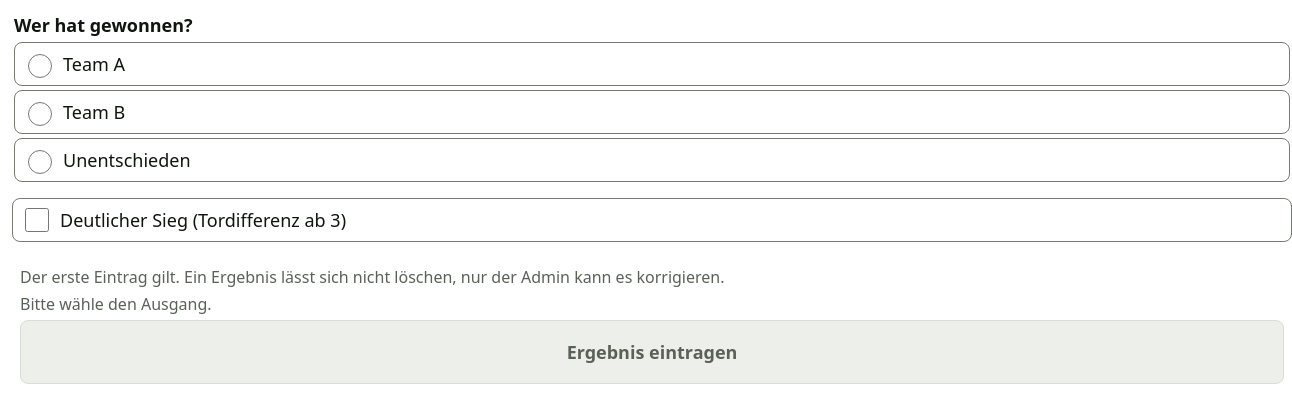
Test case: ErgebnisFormular: Eingabe › sperrt bei Unentschieden den Haken, setzt ihn zurueck und nennt den Grund als Text
The width and height of the screenshot is (1292, 401).
Click the radio button with test id "ergebnis-sieger-a": coordinates (40, 66) [28, 54, 52, 78]
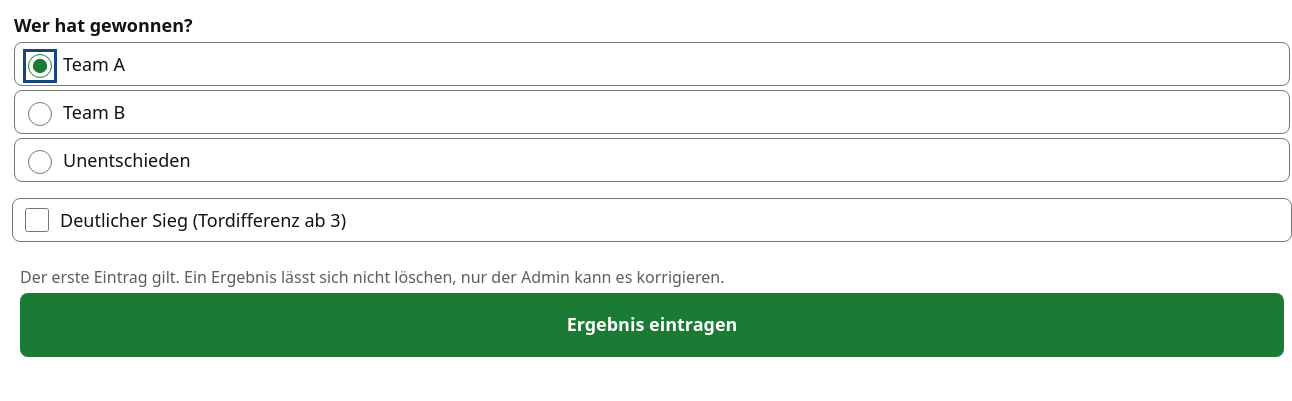
Click the checkbox with test id "ergebnis-deutlich": coordinates (37, 220) [25, 208, 49, 232]
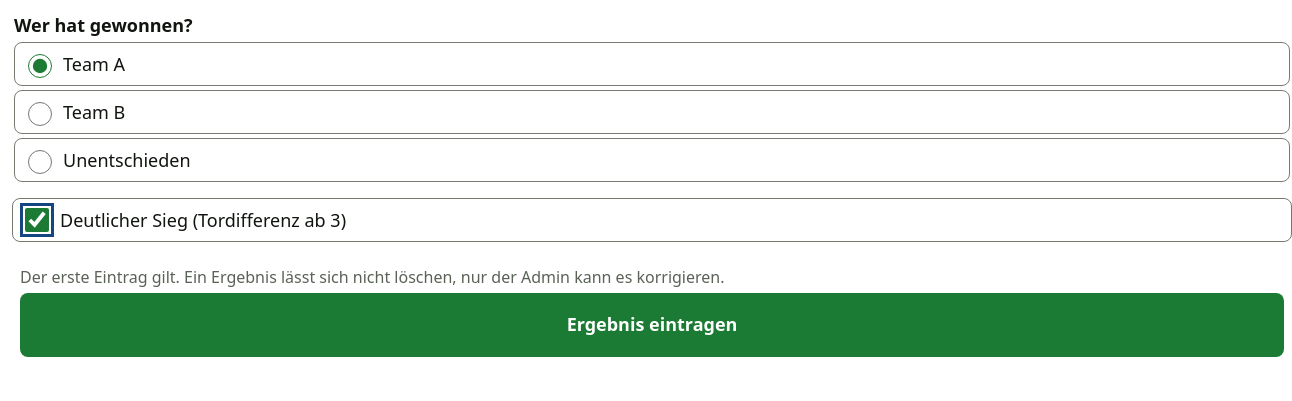
Now the checkbox with test id "ergebnis-deutlich" is checked, box [25, 208, 49, 232]
Click the radio button with test id "ergebnis-sieger-u": coordinates (40, 162) [28, 150, 52, 174]
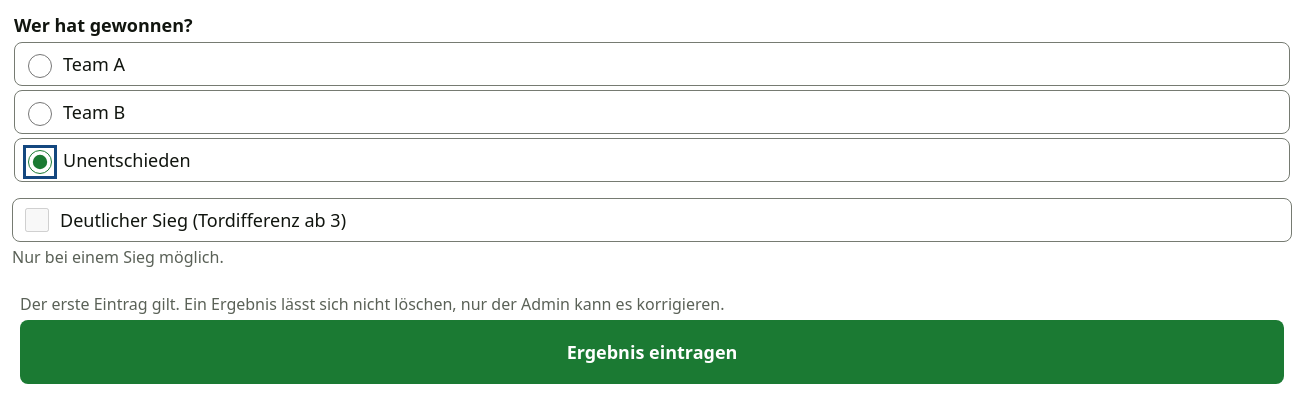
Now the checkbox with test id "ergebnis-deutlich" is not checked, box [25, 208, 49, 232]
Now the checkbox with test id "ergebnis-deutlich" is disabled, box [25, 208, 49, 232]
Now the text with test id "ergebnis-deutlich-grund" reads "Nur bei einem Sieg möglich.", box [12, 246, 224, 268]
# Zurueck zu einem Sieg: Der Haken ist frei, aber nicht von selbst wieder gesetzt.
Click the radio button with test id "ergebnis-sieger-b": coordinates (40, 114) [28, 102, 52, 126]
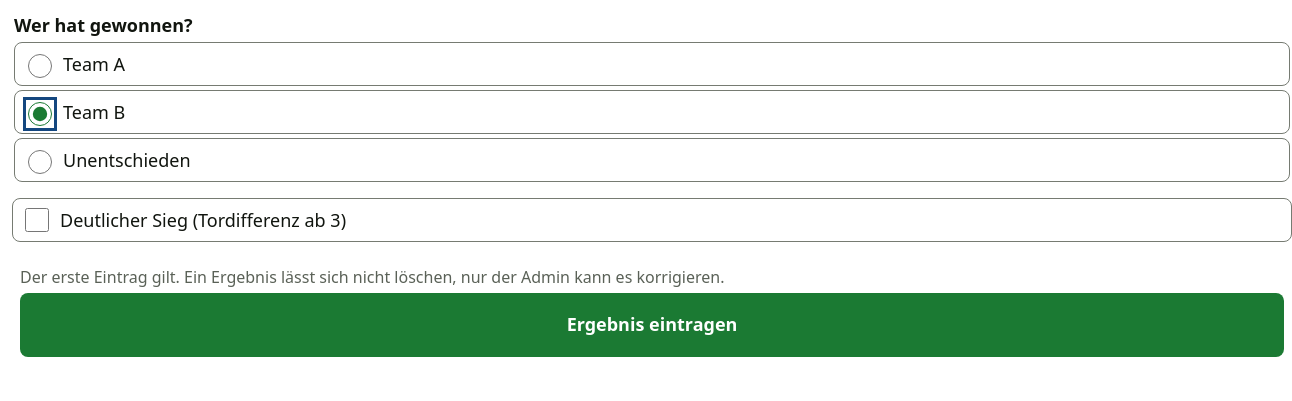
Now the checkbox with test id "ergebnis-deutlich" is not checked, box [25, 208, 49, 232]
Now the checkbox with test id "ergebnis-deutlich" is enabled, box [25, 208, 49, 232]
Now the text with test id "ergebnis-deutlich-grund" is gone
